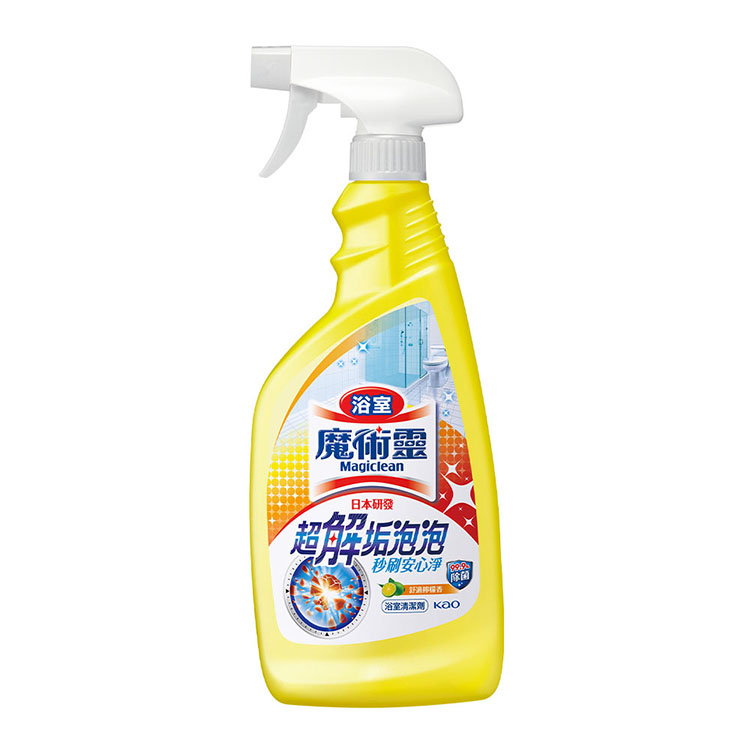cleaner: (221, 41, 525, 708)
